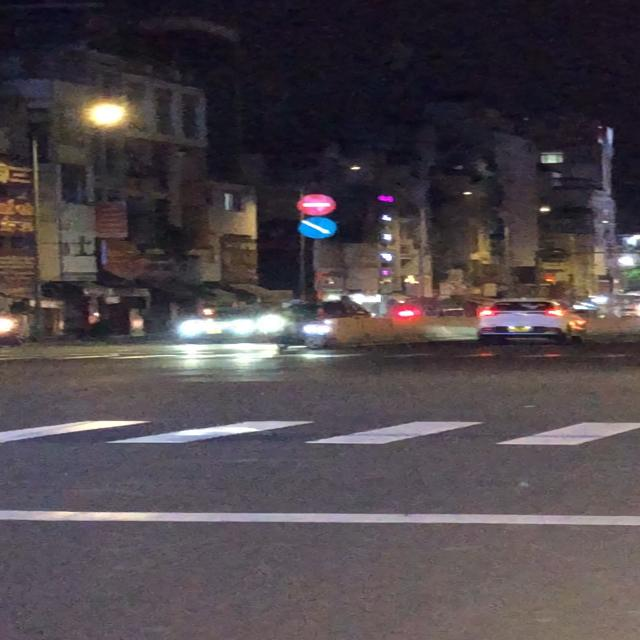Bien bao cam di nguoc chieu: (296, 194, 338, 218)
Bien bao huong phai di vong chuong ngai vat: (296, 217, 340, 241)
